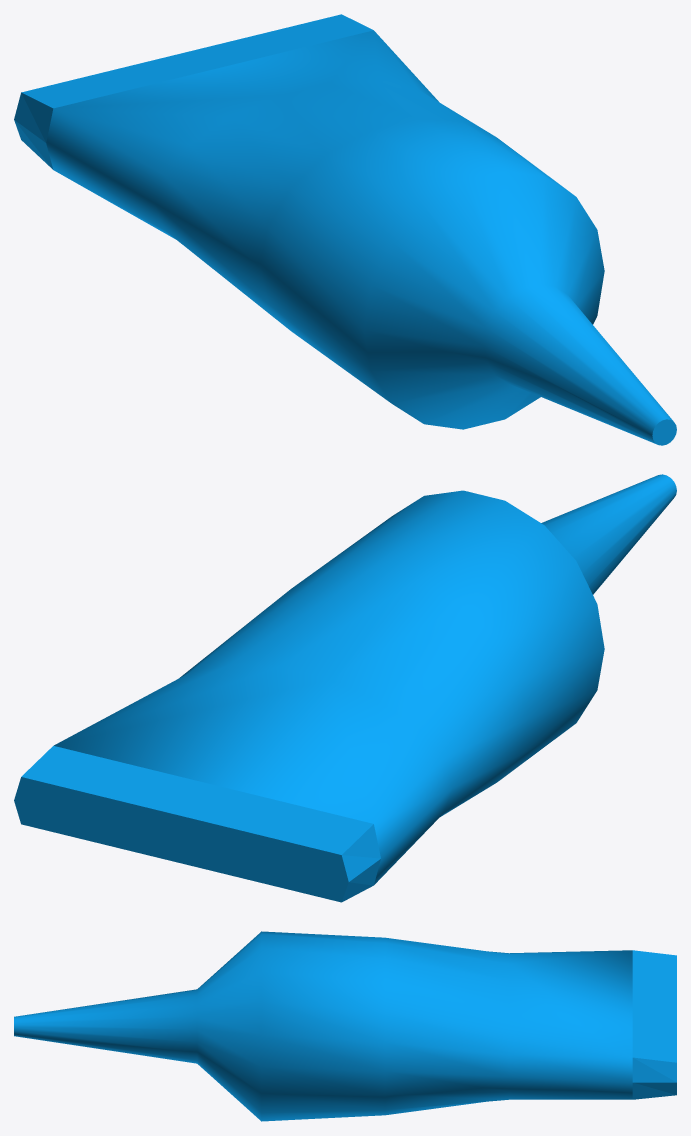
Rendered from Glue.FBX.
3 renders of one model, top to bottom at view 1: azimuth 30°, elevation 25°; view 2: azimuth 150°, elevation 25°; view 3: azimuth 270°, elevation 25°, orthographic. The views are drawn at different scales.
Parts seen in each view (by area): view 1: Cylinder001; view 2: Cylinder001; view 3: Cylinder001.
Part boxes in pixels (box(x1,y1,x2,y2)): Cylinder001: box(14, 14, 676, 445); Cylinder001: box(14, 474, 676, 902); Cylinder001: box(14, 931, 676, 1121).
Bounding box in the file's own units: 0.03 × 0.0213 × 0.075.
